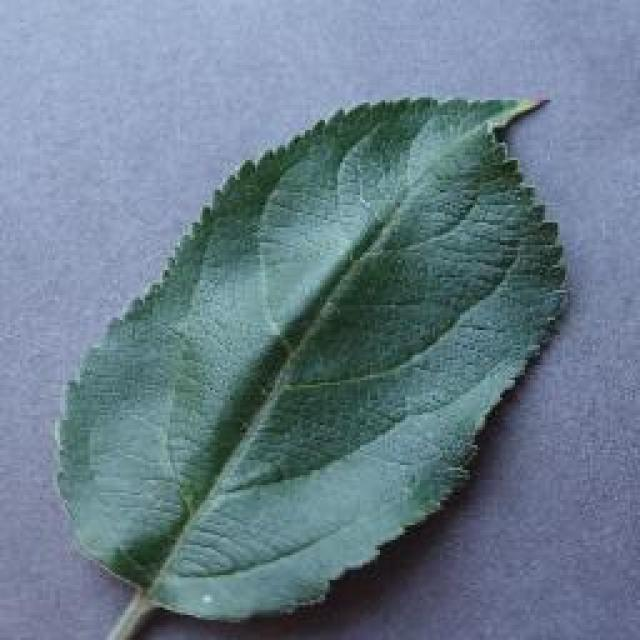apple scab disease: (48, 90, 570, 638)
